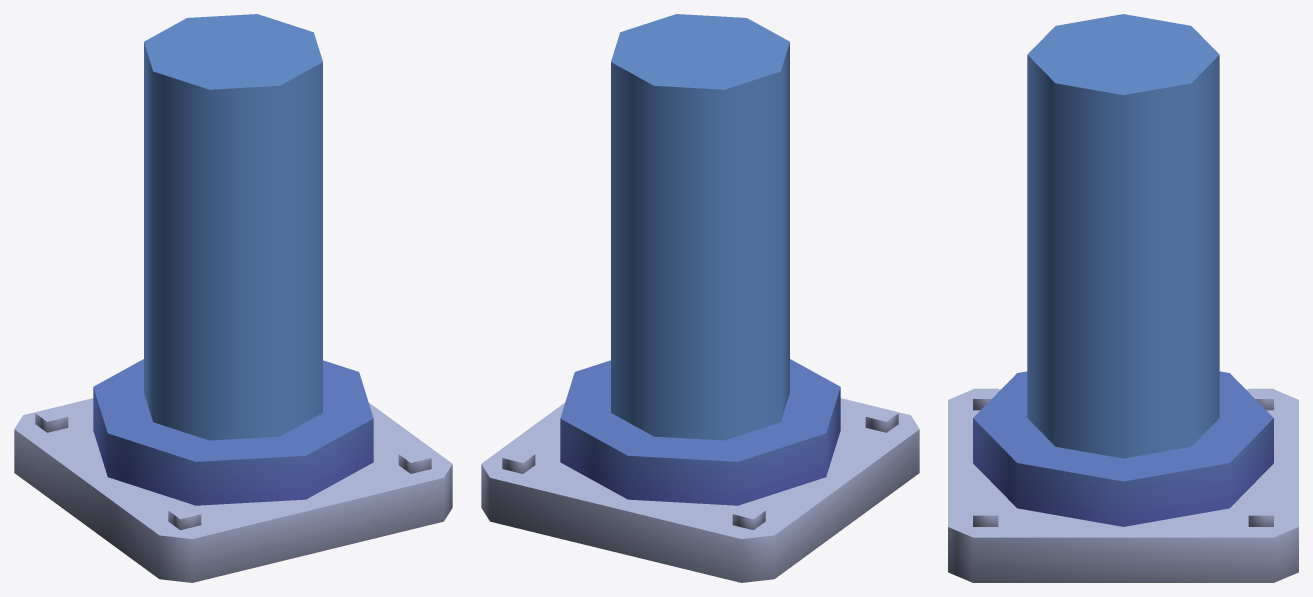
The model's file is support-large-bottom.glb.
The picture shows the model from 3 angles, left to right: view 1: azimuth 30°, elevation 25°; view 2: azimuth 150°, elevation 25°; view 3: azimuth 270°, elevation 25°; orthographic projection. The views are drawn at different scales.
Parts seen in each view (by area): view 1: support-large-bottom; view 2: support-large-bottom; view 3: support-large-bottom.
Boxes of the visible parts, x1,y1,x2,y2 form: support-large-bottom: (14, 14, 452, 582); support-large-bottom: (481, 14, 919, 582); support-large-bottom: (948, 14, 1298, 582).
Size of the model in its own units: 0.7 by 1 by 0.7.
1 material, 1 textured.
